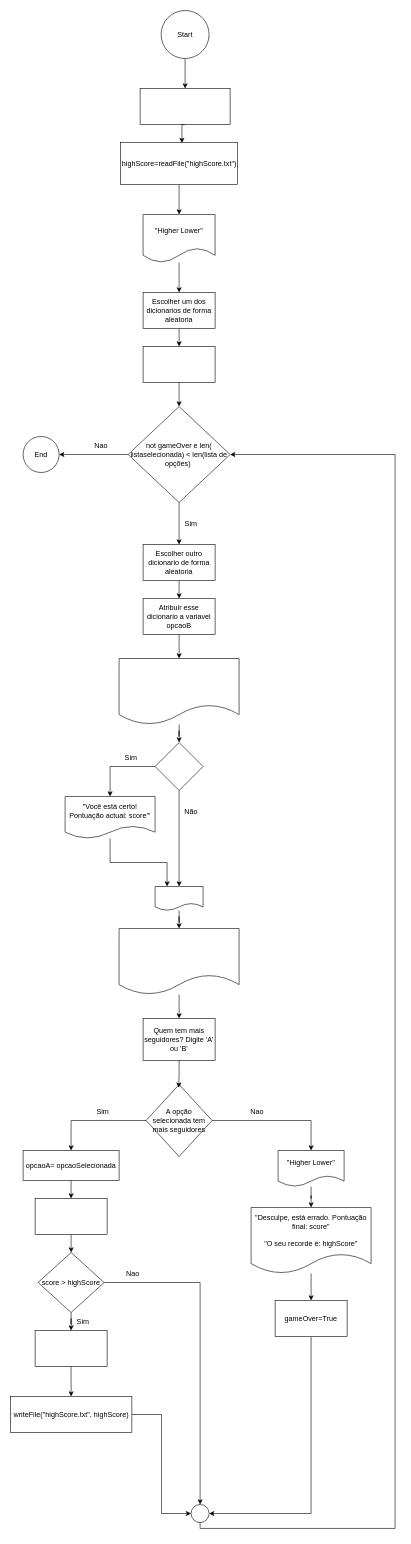
Image size: 411x1544. Some labels were removed from this diagram. Here are the shapes that lost their labels. From the top down, the centre of each, then its label:
(185,106): score=0 gameOver=False highScore=0 opcoesSelecionadas = [ ]
(178,364): Atribuir esse dicionario a variavel opcaoA
(178,691): "Compare A: nome , descrição, de pais, que tem x seguidores'"
(178,766): score>0
(178,898): "VS"
(178,961): "Contra B: nome , descrição, de pais'"
(70,1216): score=score+1
(70,1348): highScore=score
